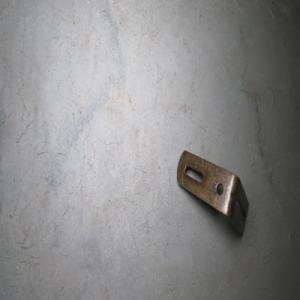MetalPart: (175, 147, 250, 237)
